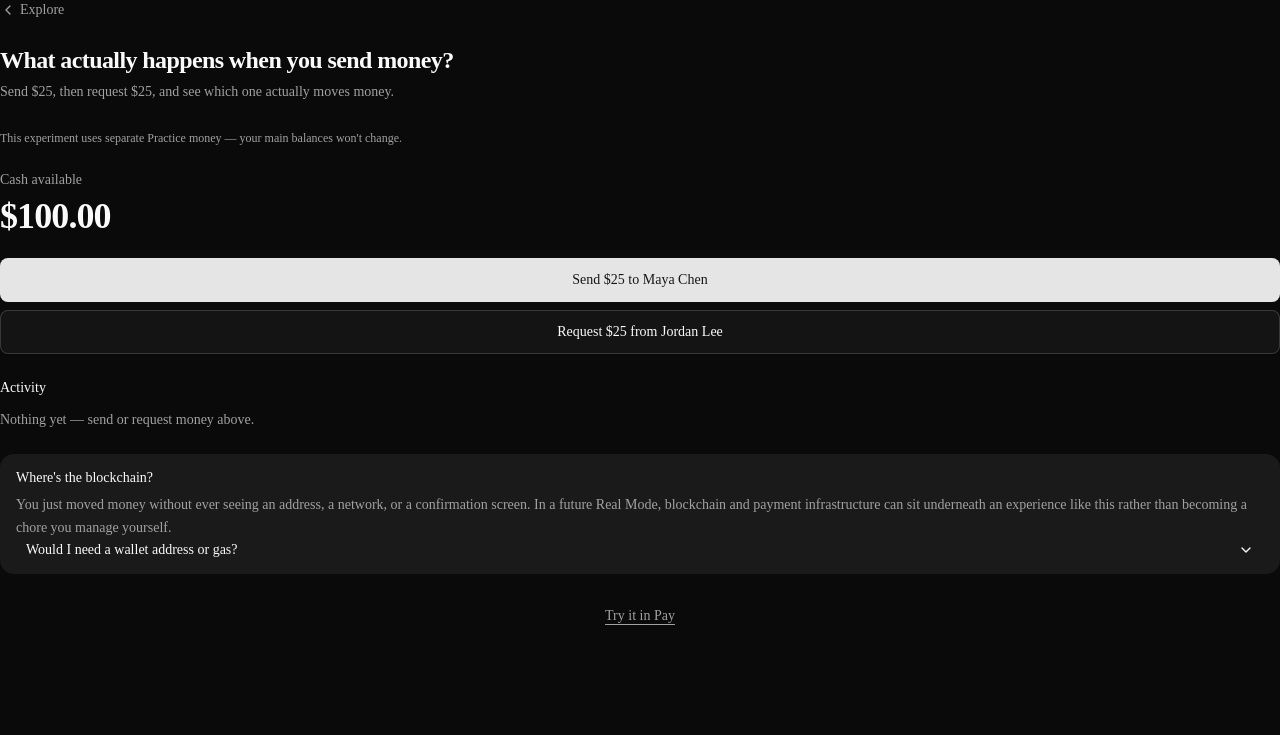
Test: PaymentsExperiment › completing the request moves cash exactly once
The width and height of the screenshot is (1280, 735).
Click the button "Request $25 from Jordan Lee" at (640,332), box [0,310,1279,354]
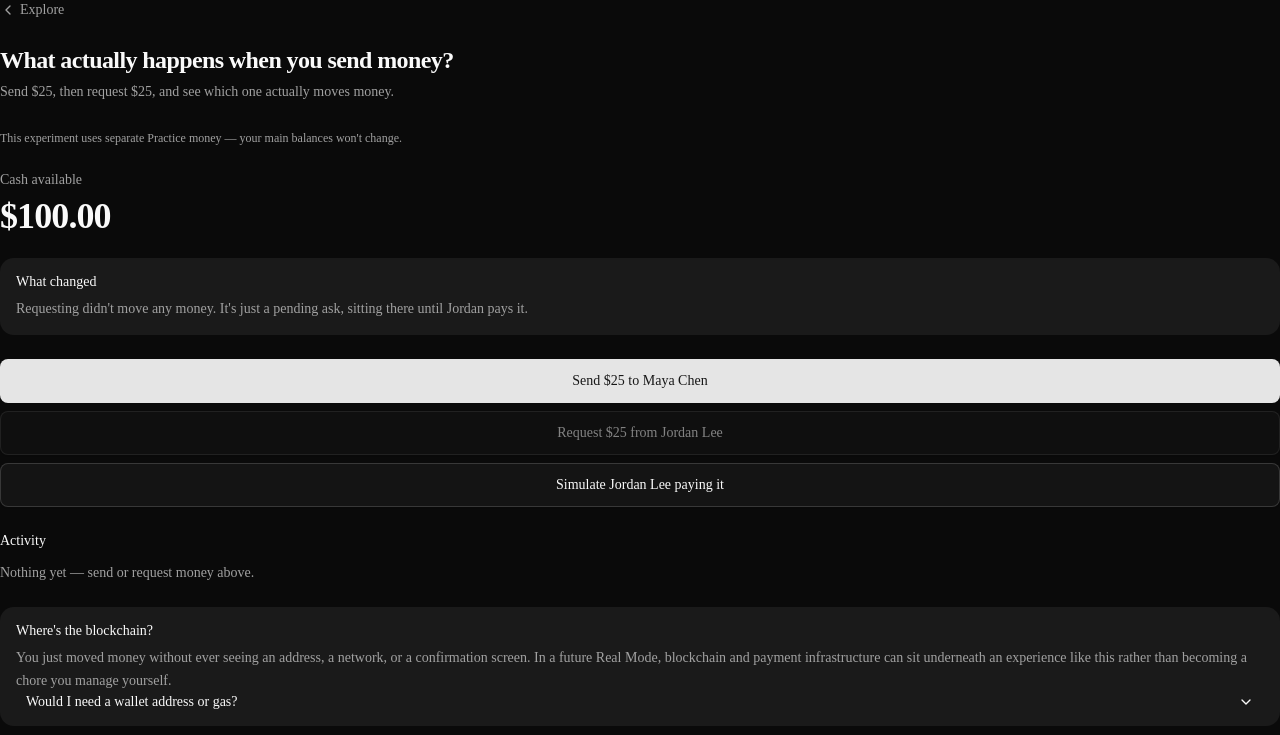
Click the button "Simulate Jordan Lee paying it" at (640,485), box [0,463,1279,507]
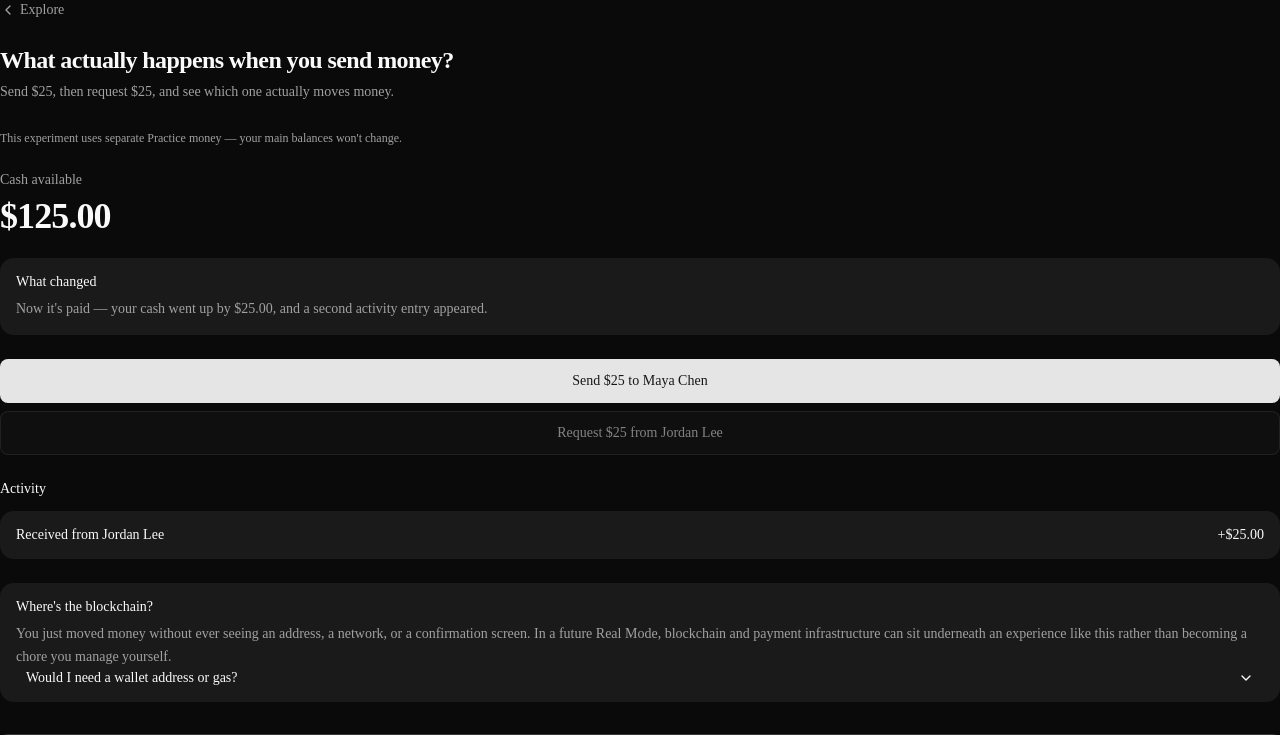
Now the text with test id "payments-experiment-cash" reads "$125.00", box [0,196,111,236]
Now the text "Received from Jordan Lee" is shown, box [16,525,164,545]
Now the button "Simulate Jordan Lee paying it" is gone
